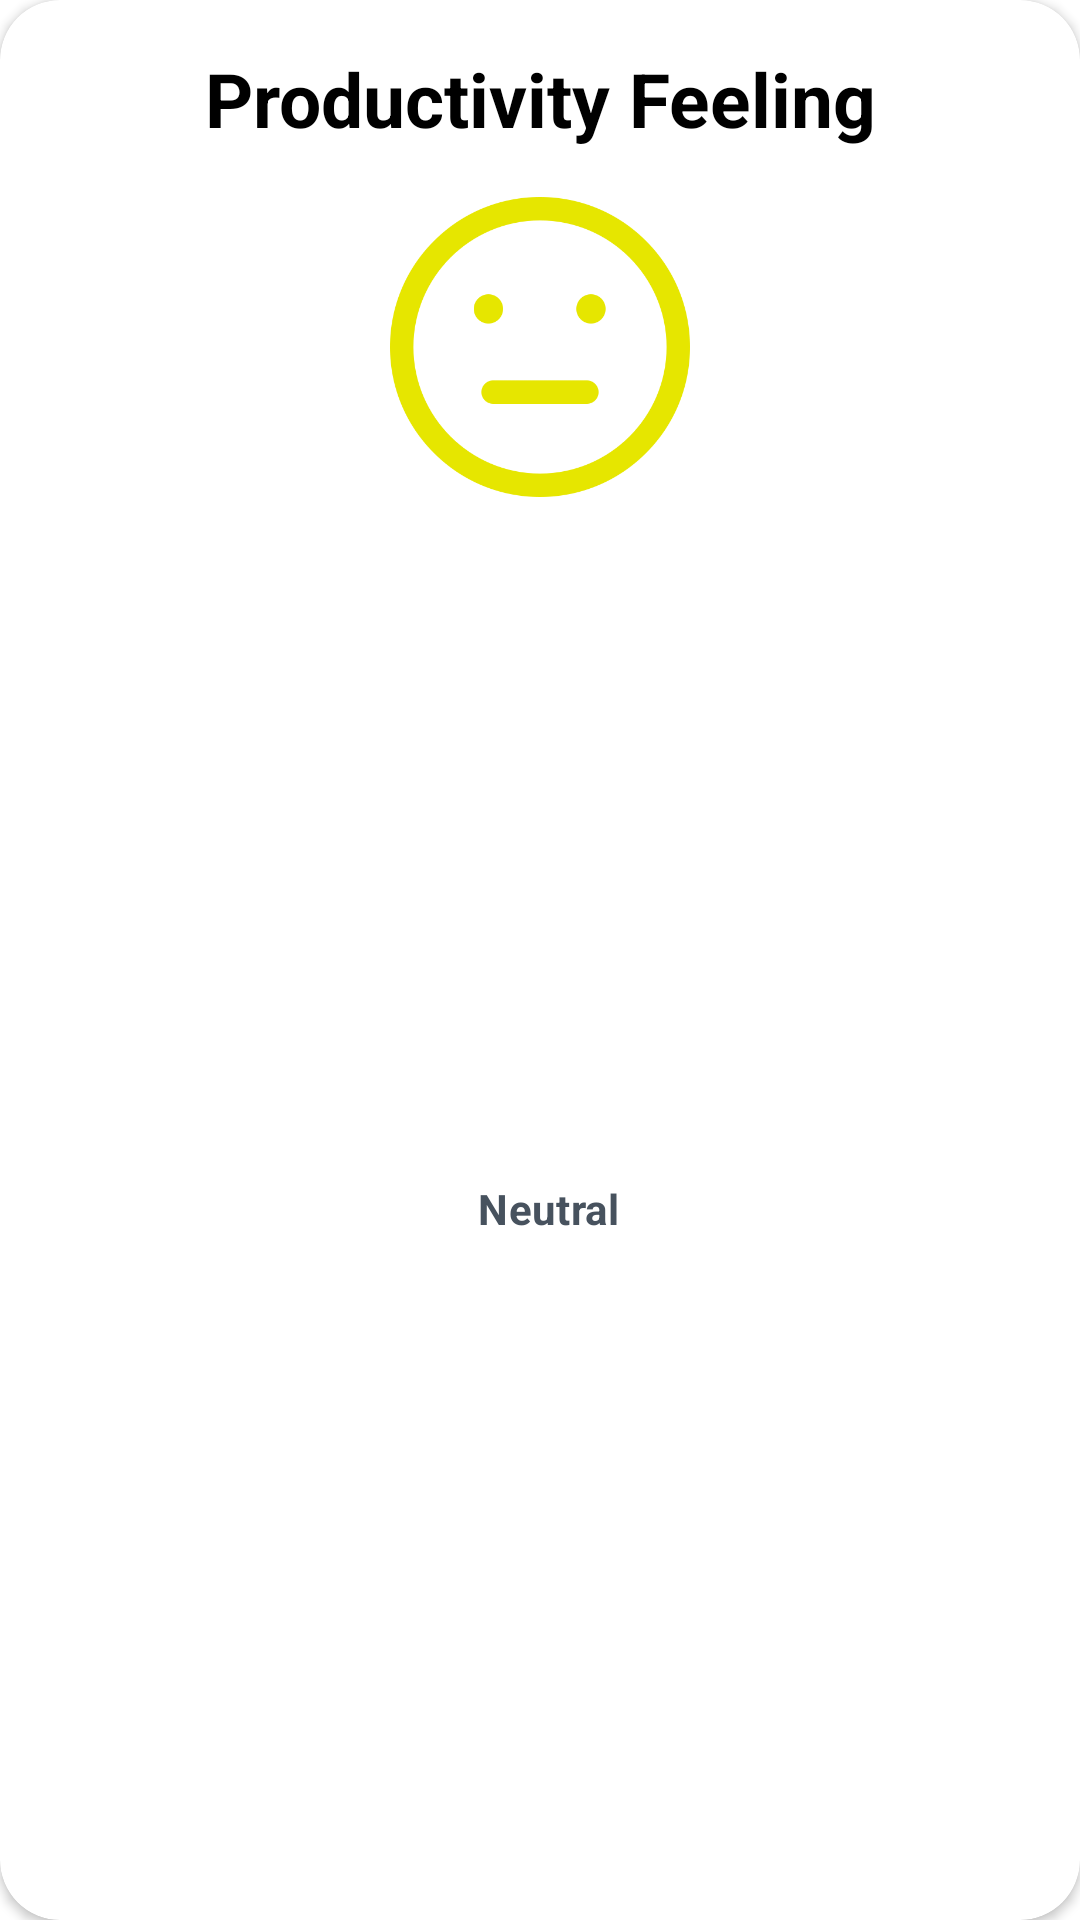

Icon click points for this 1080px x 1920px phone screenshot, format (x=x, y=y):
neutral: (x=540, y=347)
